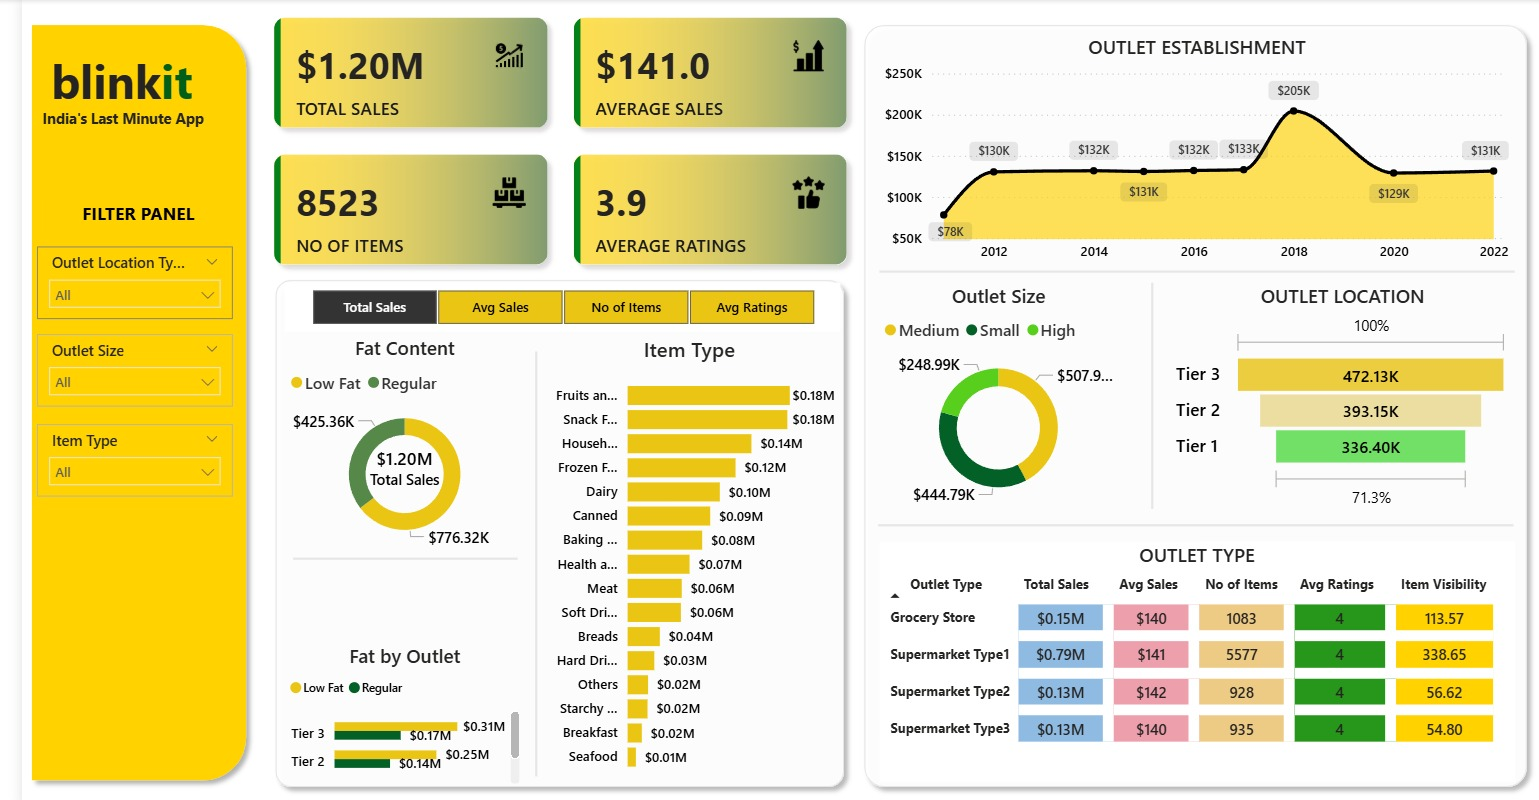

The page's visual inventory and layout, read from the dashboard file:
{"tool":"powerbi","page":{"name":"Page 1","canvas":[1400,740],"ordinal":0},"visuals":[{"type":"shape","box":[0,14.7,214.2,709.5],"z":0},{"type":"textbox","box":[13.2,94.4,178.9,31.5],"z":1000},{"type":"textbox","box":[21.5,39.7,162.3,69.6],"z":2000},{"type":"cardVisual","fields":{"Data":["BlinkIT Grocery Data.Total Sales","BlinkIT Grocery Data.Average Sales","BlinkIT Grocery Data.No of Items","BlinkIT Grocery Data.Average Ratings"]},"box":[213.6,0,559.8,260],"z":3000},{"type":"shape","box":[223.6,248.4,538.3,481.9],"z":4000},{"type":"donutChart","title":"Fat Content","fields":{"Y":["BlinkIT Grocery Data.Total Sales"],"Category":["BlinkIT Grocery Data.Item Fat Content"]},"box":[240.1,308,220.3,200.4],"z":5000},{"type":"slicer","fields":{"Values":["Matrics.Matrics"]},"box":[240.1,260,508.4,44.7],"z":6000},{"type":"cardVisual","fields":{"Data":["BlinkIT Grocery Data.Total Sales"]},"box":[299.8,389.2,101,79.5],"z":7000},{"type":"clusteredBarChart","title":"Fat by Outlet ","fields":{"Y":["BlinkIT Grocery Data.Total Sales"],"Category":["BlinkIT Grocery Data.Outlet Location Type"],"Series":["BlinkIT Grocery Data.Item Fat Content"]},"box":[240.1,589.6,220.3,134.1],"z":8000},{"type":"shape","box":[248.4,496.8,205.4,31.5],"z":9000},{"type":"shape","box":[460.4,323,21.5,389.2],"z":10000},{"type":"barChart","title":"Item Type","fields":{"Y":["BlinkIT Grocery Data.Total Sales"],"Category":["BlinkIT Grocery Data.Item Type"]},"box":[472,308,276.6,409.1],"z":11000},{"type":"shape","box":[761.8,14.9,624.4,715.5],"z":12000},{"type":"lineChart","title":" OUTLET ESTABLISHMENT","fields":{"Y":["BlinkIT Grocery Data.Total Sales"],"Category":["BlinkIT Grocery Data.Outlet Establishment Year"]},"box":[785,31.5,581.3,217],"z":13000},{"type":"shape","box":[785,228.6,581.3,41.4],"z":14000},{"type":"donutChart","title":"Outlet Size","fields":{"Y":["BlinkIT Grocery Data.Total Sales"],"Category":["BlinkIT Grocery Data.Outlet Size"]},"box":[783.4,260,220.3,212],"z":15000},{"type":"shape","box":[1016.9,260,34.8,207],"z":16000},{"type":"funnel","title":"OUTLET LOCATION","fields":{"Y":["Sum(BlinkIT Grocery Data.Sales)"],"Category":["BlinkIT Grocery Data.Outlet Location Type"]},"box":[1051.7,260,314.7,212],"z":17000},{"type":"shape","box":[783.4,467,581.3,29.8],"z":18000},{"type":"pivotTable","title":"OUTLET TYPE","fields":{"Values":["BlinkIT Grocery Data.Total Sales","BlinkIT Grocery Data.Avg Sales","BlinkIT Grocery Data.No of Items","BlinkIT Grocery Data.Avg Ratings","Sum(BlinkIT Grocery Data.Item Visibility)"],"Rows":["BlinkIT Grocery Data.Outlet Type"]},"box":[785,496.8,581.3,220.3],"z":19000},{"type":"slicer","fields":{"Values":["BlinkIT Grocery Data.Outlet Location Type"]},"box":[13.2,226.9,178.9,66.2],"z":20000},{"type":"slicer","fields":{"Values":["BlinkIT Grocery Data.Outlet Size"]},"box":[13.2,306.4,178.9,66.2],"z":21000},{"type":"slicer","fields":{"Values":["BlinkIT Grocery Data.Item Type"]},"box":[13.2,389.2,178.9,66.2],"z":22000},{"type":"textbox","box":[21.3,179.8,170,36],"z":23000}]}

Visuals, with their boxes in screenshot pixels (x1, y1, x2, y2), scaled from the page's 1400x740 canvas onto the 1539x800 screenshot:
shape: bbox=(0, 16, 235, 783)
textbox: bbox=(15, 102, 211, 136)
textbox: bbox=(24, 43, 202, 118)
cardVisual - BlinkIT Grocery Data.Total Sales x BlinkIT Grocery Data.Average Sales: bbox=(235, 0, 850, 281)
shape: bbox=(246, 269, 838, 790)
"Fat Content" donutChart: bbox=(264, 333, 506, 550)
slicer - Matrics.Matrics: bbox=(264, 281, 823, 329)
cardVisual - BlinkIT Grocery Data.Total Sales: bbox=(330, 421, 441, 507)
"Fat by Outlet " clusteredBarChart: bbox=(264, 637, 506, 782)
shape: bbox=(273, 537, 499, 571)
shape: bbox=(506, 349, 530, 770)
"Item Type" barChart: bbox=(519, 333, 823, 775)
shape: bbox=(837, 16, 1524, 790)
" OUTLET ESTABLISHMENT" lineChart: bbox=(863, 34, 1502, 269)
shape: bbox=(863, 247, 1502, 292)
"Outlet Size" donutChart: bbox=(861, 281, 1103, 510)
shape: bbox=(1118, 281, 1156, 505)
"OUTLET LOCATION" funnel: bbox=(1156, 281, 1502, 510)
shape: bbox=(861, 505, 1500, 537)
"OUTLET TYPE" pivotTable: bbox=(863, 537, 1502, 775)
slicer - BlinkIT Grocery Data.Outlet Location Type: bbox=(15, 245, 211, 317)
slicer - BlinkIT Grocery Data.Outlet Size: bbox=(15, 331, 211, 403)
slicer - BlinkIT Grocery Data.Item Type: bbox=(15, 421, 211, 492)
textbox: bbox=(23, 194, 210, 233)
